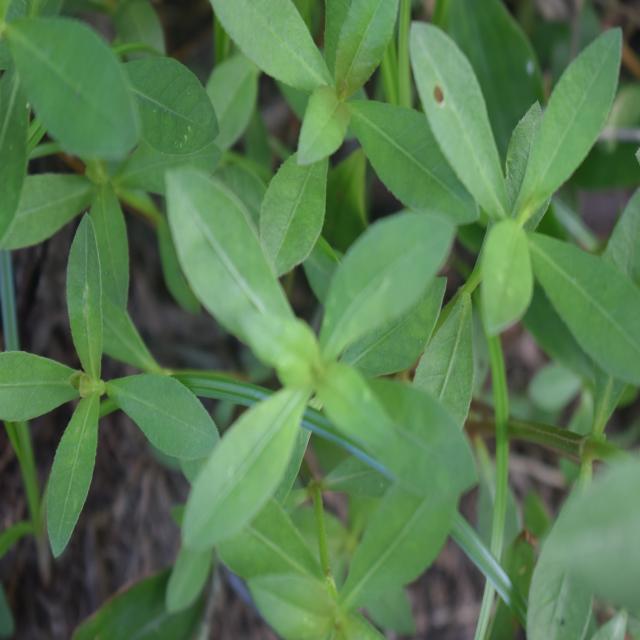Alligatorweed: (409, 44, 640, 407), (180, 0, 467, 253), (0, 232, 209, 497)
